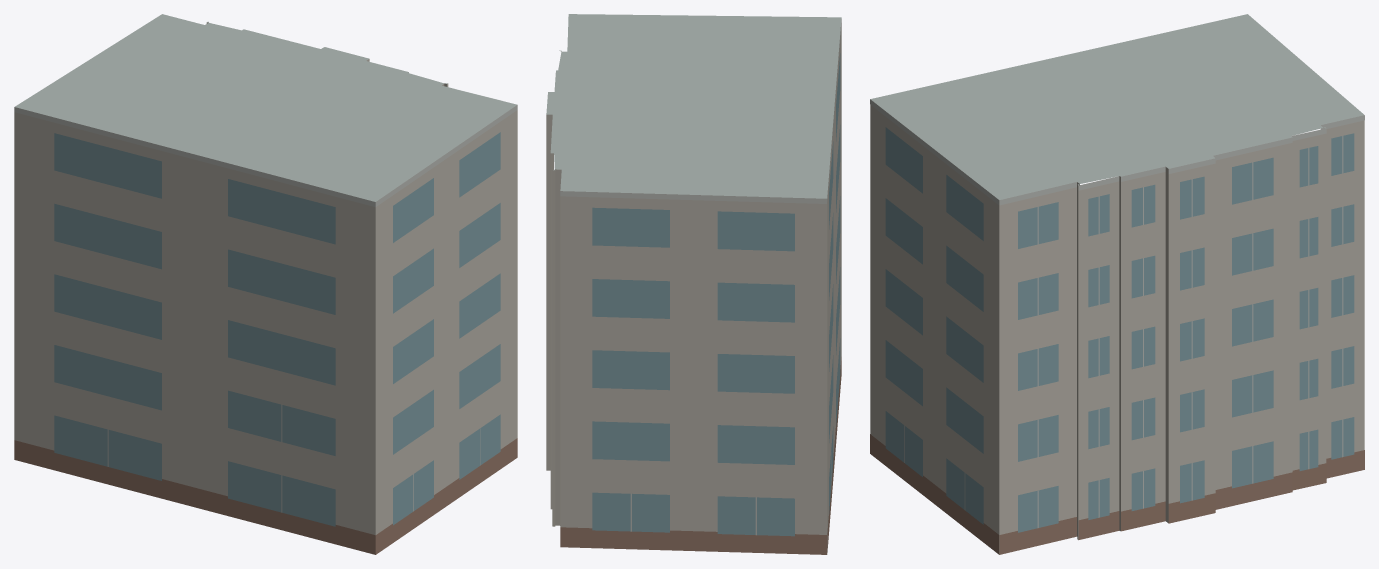
The model's file is survey-upis-32671135.glb.
3 views of the same model, side by side, from view 1: azimuth 30°, elevation 25°; view 2: azimuth 150°, elevation 25°; view 3: azimuth 270°, elevation 25° (orthographic).
Parts seen in each view (by area): view 1: survey-upis-32671135.tmp; view 2: survey-upis-32671135.tmp; view 3: survey-upis-32671135.tmp.
Boxes of the visible parts, x1,y1,x2,y2 form: survey-upis-32671135.tmp: [14, 14, 517, 554]; survey-upis-32671135.tmp: [546, 14, 841, 554]; survey-upis-32671135.tmp: [870, 14, 1364, 554].
Size of the model in its own units: 18.54 by 16.45 by 20.8.
